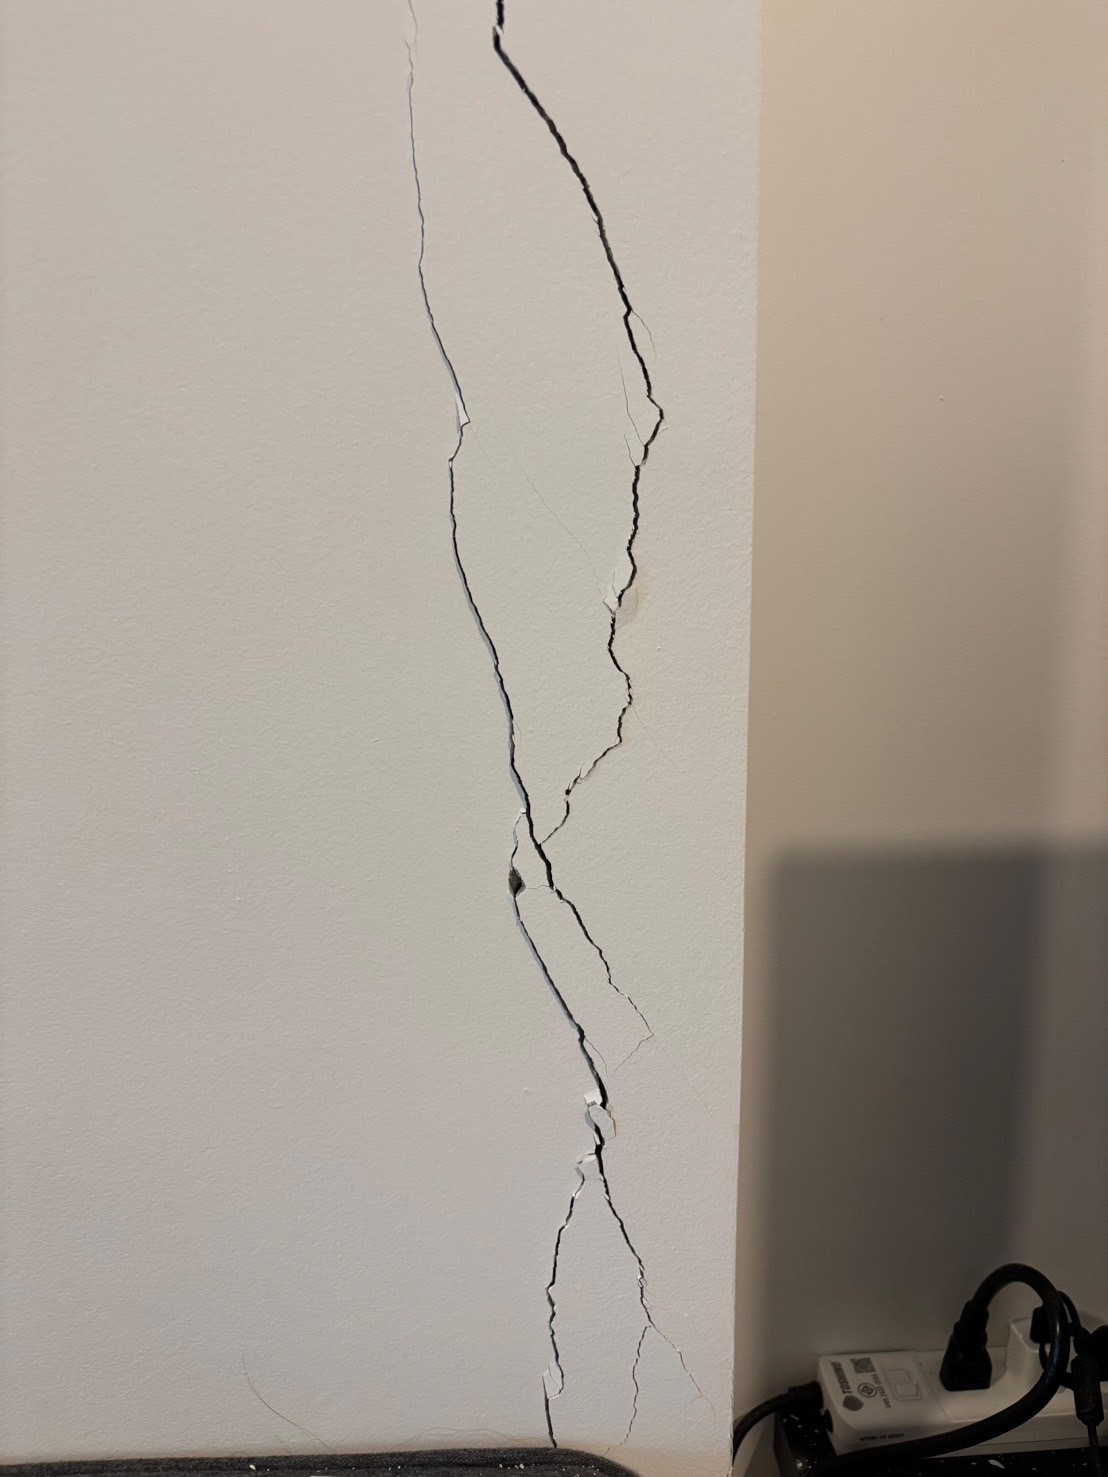High: (361, 3, 715, 1475)
